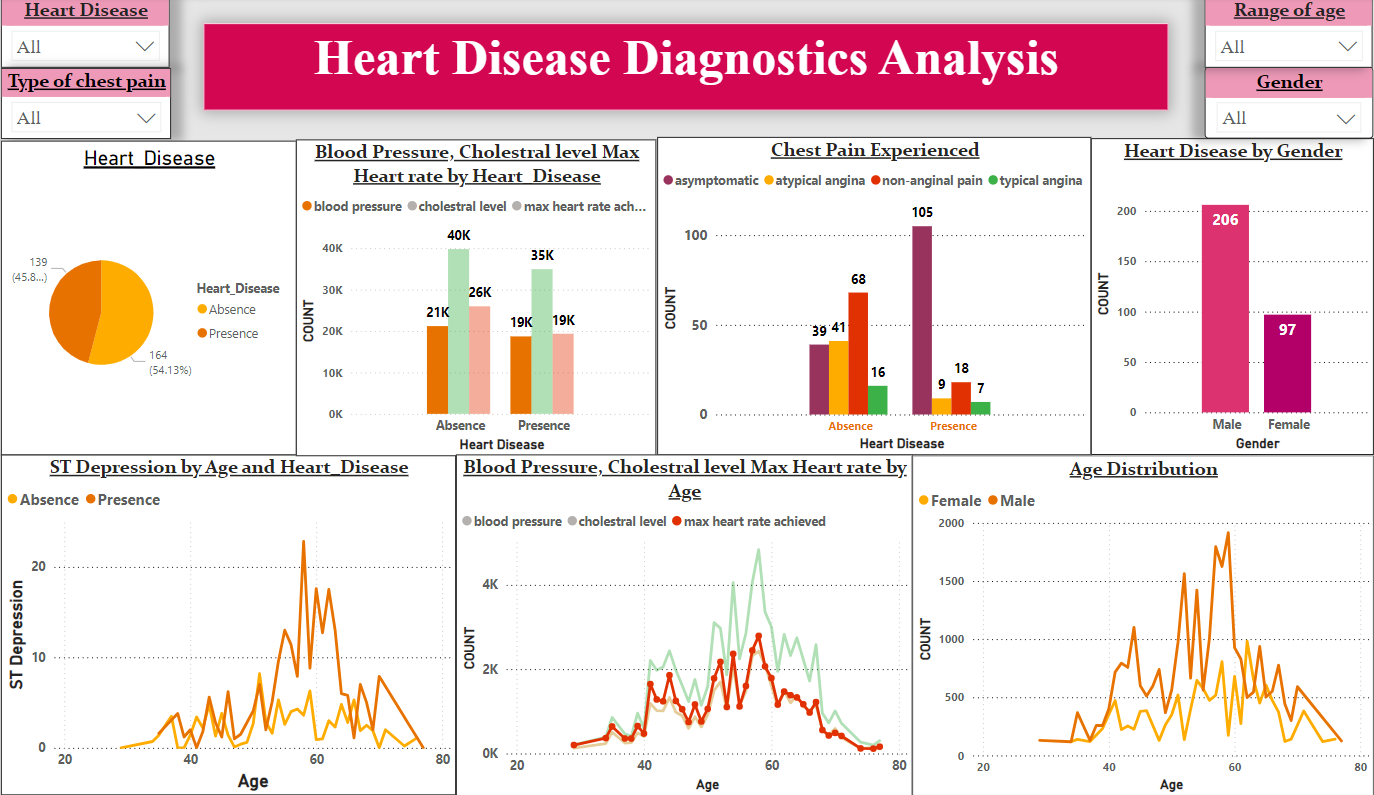

The page's visual inventory and layout, read from the dashboard file:
{"tool":"powerbi","page":{"name":"Page 1","canvas":[1460,860],"ordinal":0},"visuals":[{"type":"lineChart","title":"Age Distribution","fields":{"Category":["my_data.age"],"Series":["my_data.sex1"],"Y":["Sum(my_data.blood pressure)"]},"box":[968.8,488.1,491,362],"z":0},{"type":"columnChart","title":"Heart Disease by Gender","fields":{"Category":["my_data.sex1"],"Y":["CountNonNull(my_data.max heart rate achieved)"]},"box":[1159.4,150.4,300.8,336.8],"z":1000},{"type":"clusteredColumnChart","title":"Chest Pain Experienced","fields":{"Y":["CountNonNull(my_data.cp)"],"Series":["my_data.Chest_pain_type"],"Category":["my_data.Heart_Disease"]},"box":[697.5,149.1,461.9,338.1],"z":2000},{"type":"lineChart","title":"ST Depression by Age and Heart_Disease","fields":{"Category":["my_data.age"],"Series":["my_data.Heart_Disease"],"Y":["Sum(my_data.oldpeak)"]},"box":[0,486.6,483.7,362],"z":3000},{"type":"clusteredColumnChart","title":"Blood Pressure, Cholestral level  Max Heart rate  by Heart_Disease","fields":{"Category":["my_data.Heart_Disease"],"Y":["Sum(my_data.blood pressure)","Sum(my_data.cholestral level)","Sum(my_data.max heart rate achieved)"]},"box":[314.2,151.8,383.4,336.8],"z":4000},{"type":"textbox","box":[215,28,1026,93],"z":5000},{"type":"slicer","title":"Gender","fields":{"Values":["my_data.sex1"]},"box":[1281,74.7,178.8,76.2],"z":6000},{"type":"slicer","title":"Range of age","fields":{"Values":["my_data.Age_Category"]},"box":[1281.1,0,178.7,74.9],"z":7000},{"type":"slicer","title":"Heart Disease","fields":{"Values":["my_data.Heart_Disease"]},"box":[0,0,179.4,75.4],"z":8000},{"type":"slicer","title":"Type of chest pain","fields":{"Values":["my_data.Chest_pain_type"]},"box":[0,75.4,180.9,75.4],"z":9000},{"type":"lineChart","title":"Blood Pressure, Cholestral level  Max Heart rate  by Age","fields":{"Category":["my_data.age"],"Y":["Sum(my_data.blood pressure)","Sum(my_data.cholestral level)","Sum(my_data.max heart rate achieved)"]},"box":[484,486.9,485.5,363],"z":10000},{"type":"pieChart","title":"Heart_Disease","fields":{"Category":["my_data.Heart_Disease"],"Y":["CountNonNull(my_data.max heart rate achieved)"]},"box":[0,153.1,314.2,334.1],"z":11000}]}

Visuals, with their boxes in screenshot pixels (x1, y1, x2, y2), scaled from the page's 1460x860 canvas onto the 1374x795 screenshot:
"Age Distribution" lineChart: select_region(912, 451, 1373, 786)
"Heart Disease by Gender" columnChart: select_region(1091, 139, 1373, 450)
"Chest Pain Experienced" clusteredColumnChart: select_region(656, 138, 1091, 450)
"ST Depression by Age and Heart_Disease" lineChart: select_region(0, 450, 455, 784)
"Blood Pressure, Cholestral level  Max Heart rate  by Heart_Disease" clusteredColumnChart: select_region(296, 140, 657, 452)
textbox: select_region(202, 26, 1168, 112)
"Gender" slicer: select_region(1206, 69, 1373, 139)
"Range of age" slicer: select_region(1206, 0, 1373, 69)
"Heart Disease" slicer: select_region(0, 0, 169, 70)
"Type of chest pain" slicer: select_region(0, 70, 170, 139)
"Blood Pressure, Cholestral level  Max Heart rate  by Age" lineChart: select_region(455, 450, 912, 786)
"Heart_Disease" pieChart: select_region(0, 142, 296, 450)
